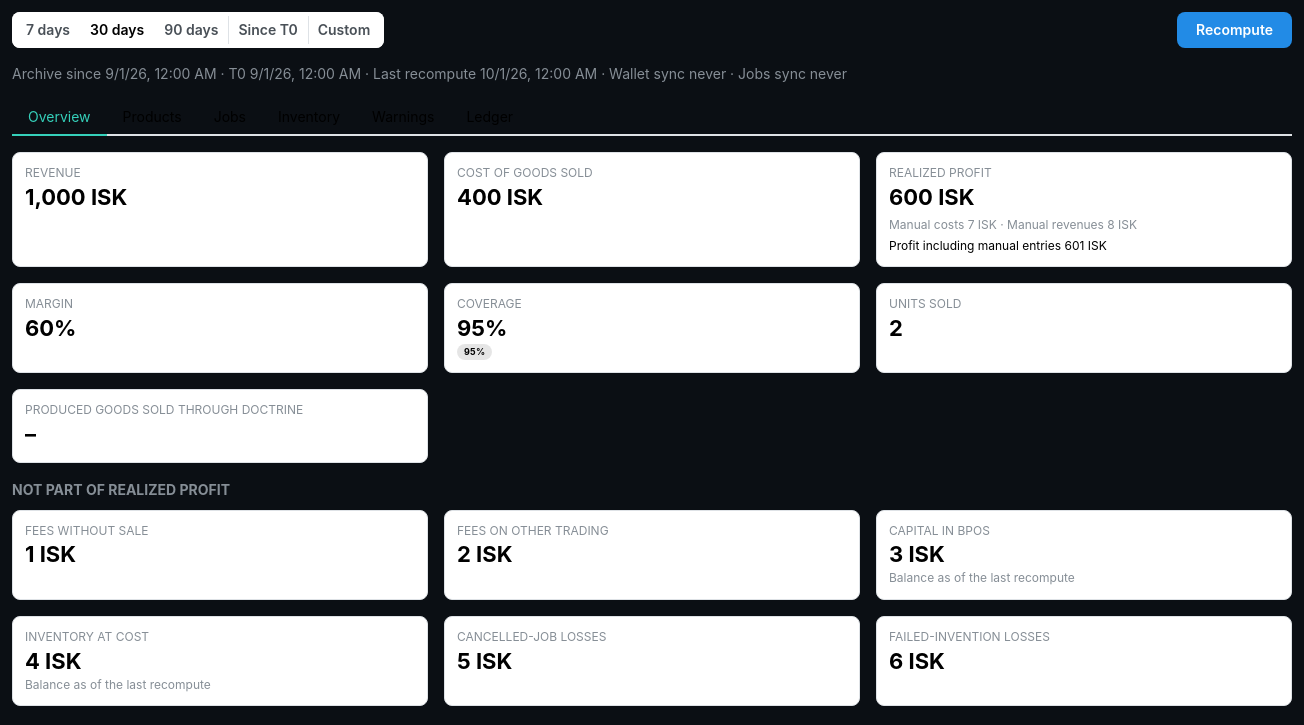
Test: RealizedProfit › shows the recompute hint on a list that needs a rebuild
expect the text "Cost of goods sold" is shown: met, box [457,165,593,180]
Step 1. Click the tab "Products" → (152, 118), box [107,100,198,136]
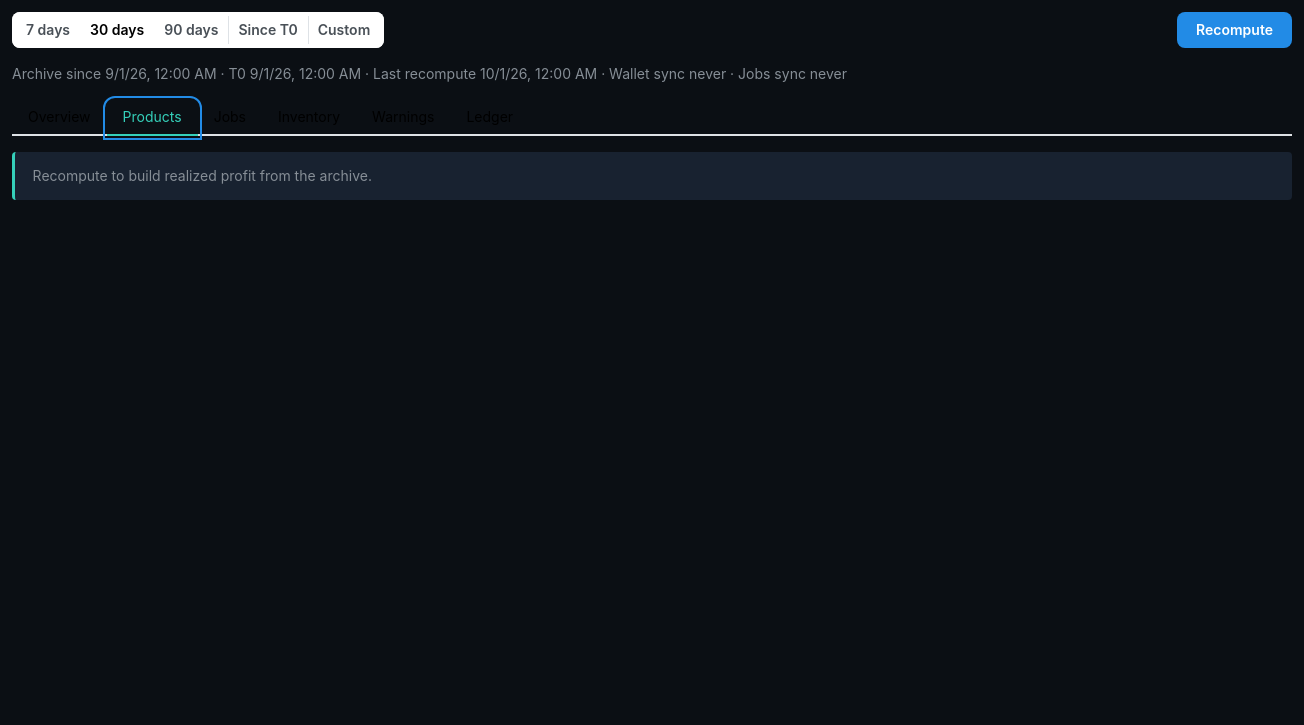
expect the text "Recompute to build realized profit from the archive." is shown: met, box [33,167,372,184]
